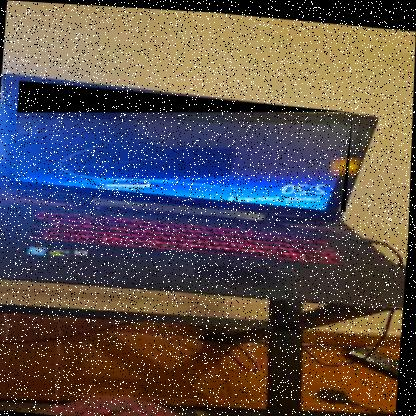Normal: (12, 80, 354, 209)
